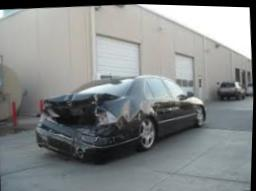Bumper: (36, 121, 141, 161)
Dickey: (41, 92, 122, 126)
Light: (99, 105, 120, 125)
